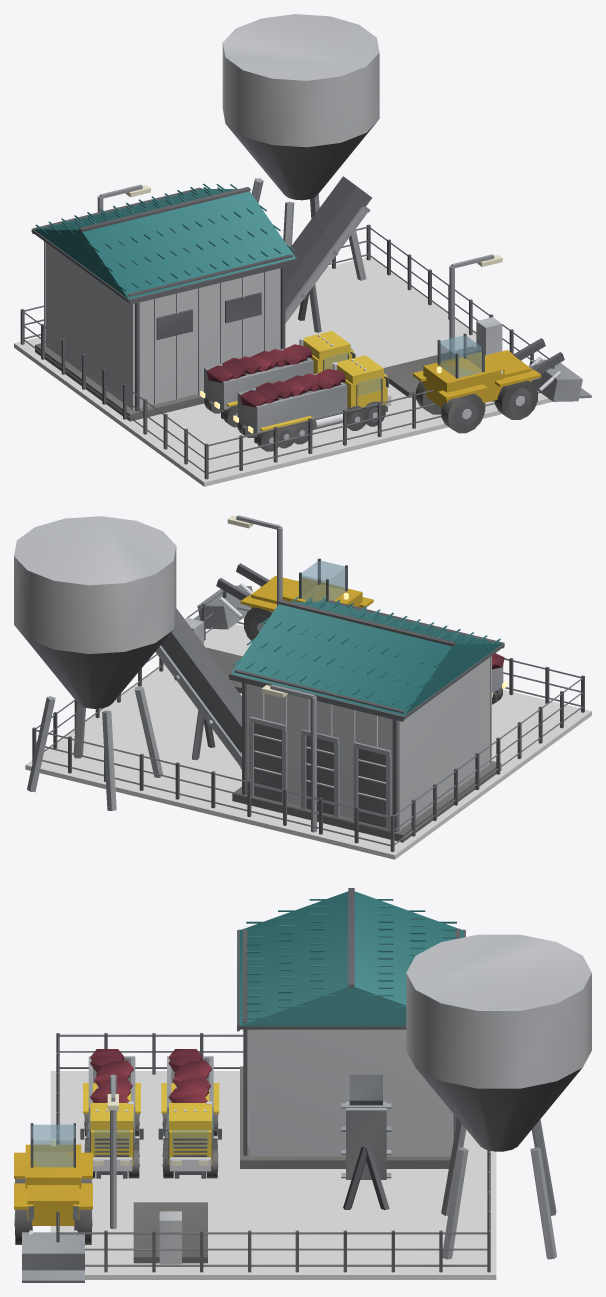
File: Haul_P3.fbx
3 views of the same model, one above another, from view 1: azimuth 30°, elevation 25°; view 2: azimuth 150°, elevation 25°; view 3: azimuth 270°, elevation 25° (orthographic). The views are drawn at different scales.
Visible parts, largest first — view 1: Haul.Workshop, Haul.Hopper, Haul.Yard, Haul.Loader, Haul.Parked1, Haul.Fence, Haul.Parked0, Haul.Conv, Haul.Weighbridge, Haul.Lamp0; view 2: Haul.Workshop, Haul.Hopper, Haul.Yard, Haul.Fence, Haul.Conv, Haul.Loader, Haul.Lamp1, Haul.Lamp0, Haul.Weighbridge, Haul.Parked1; view 3: Haul.Workshop, Haul.Yard, Haul.Hopper, Haul.Loader, Haul.Fence, Haul.Parked0, Haul.Parked1, Haul.Conv, Haul.Weighbridge, Haul.Lamp0.
Boxes of the visible parts, x1,y1,x2,y2 form: Haul.Workshop: (31,183,297,421); Haul.Hopper: (222,14,379,280); Haul.Yard: (14,257,552,486); Haul.Loader: (412,333,591,433); Haul.Parked1: (233,355,391,451); Haul.Fence: (20,224,554,479); Haul.Parked0: (200,331,355,427); Haul.Conv: (285,176,371,332); Haul.Weighbridge: (383,317,502,397); Haul.Lamp0: (449,254,502,358); Haul.Workshop: (229,596,504,842); Haul.Hopper: (14,516,176,810); Haul.Yard: (25,624,591,859); Haul.Fence: (32,590,584,851); Haul.Conv: (155,608,241,769); Haul.Loader: (194,558,373,640); Haul.Lamp1: (261,684,316,832); Haul.Lamp0: (227,515,282,605); Haul.Weighbridge: (185,617,242,693); Haul.Parked1: (492,653,507,704); Haul.Workshop: (237,888,465,1168); Haul.Yard: (50,1071,496,1279); Haul.Hopper: (406,934,591,1259); Haul.Loader: (14,1123,92,1282); Haul.Fence: (56,1033,490,1272); Haul.Parked0: (158,1049,221,1178); Haul.Parked1: (80,1049,143,1178); Haul.Conv: (341,1074,391,1210); Haul.Weighbridge: (133,1202,207,1264); Haul.Lamp0: (107,1074,118,1229).
Size of the model in its own units: 2734 by 1598 by 3113.
